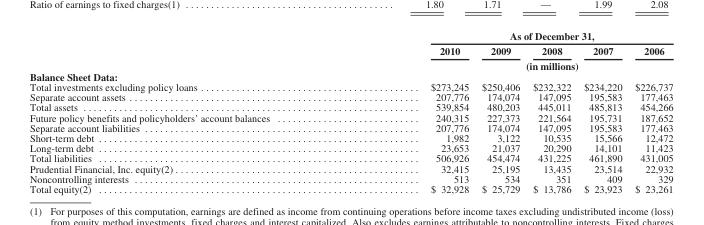table: (28, 29, 672, 194)
table column: (28, 29, 349, 194), (349, 29, 474, 194), (474, 29, 525, 194), (525, 29, 576, 194), (576, 29, 627, 194), (627, 29, 672, 194)
table column header: (28, 29, 672, 70)
table projected row header: (28, 70, 672, 81)
table row: (28, 42, 672, 58), (28, 29, 672, 42), (28, 58, 672, 70), (28, 70, 672, 81), (28, 111, 672, 122), (28, 152, 672, 163), (28, 183, 672, 194), (28, 81, 672, 91), (28, 91, 672, 101), (28, 101, 672, 111), (28, 122, 672, 132), (28, 132, 672, 142), (28, 142, 672, 152), (28, 163, 672, 173), (28, 173, 672, 183)
table spanning cell: (349, 29, 672, 42), (349, 58, 672, 70)
